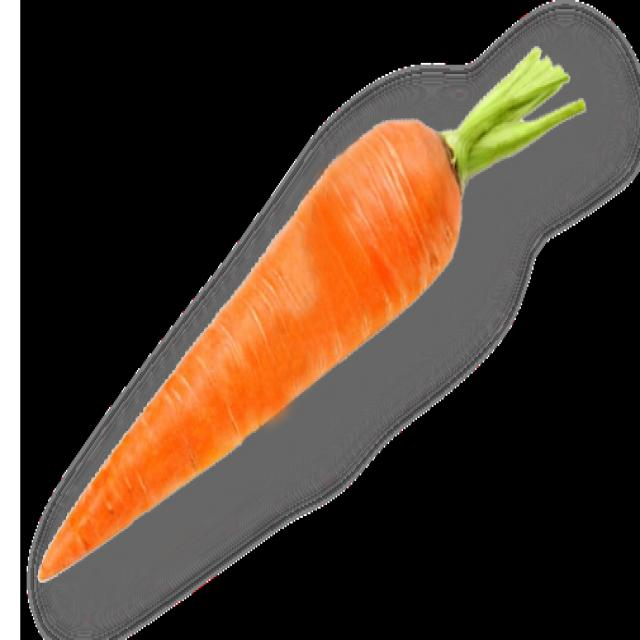Carrot: (37, 49, 586, 587)
